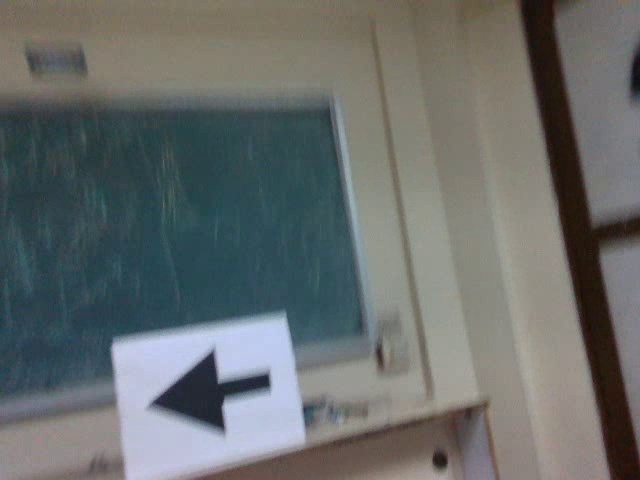Left: (140, 343, 275, 433)
